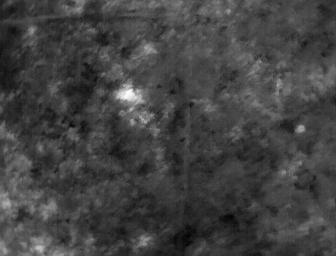landmine: (116, 86, 137, 102)
